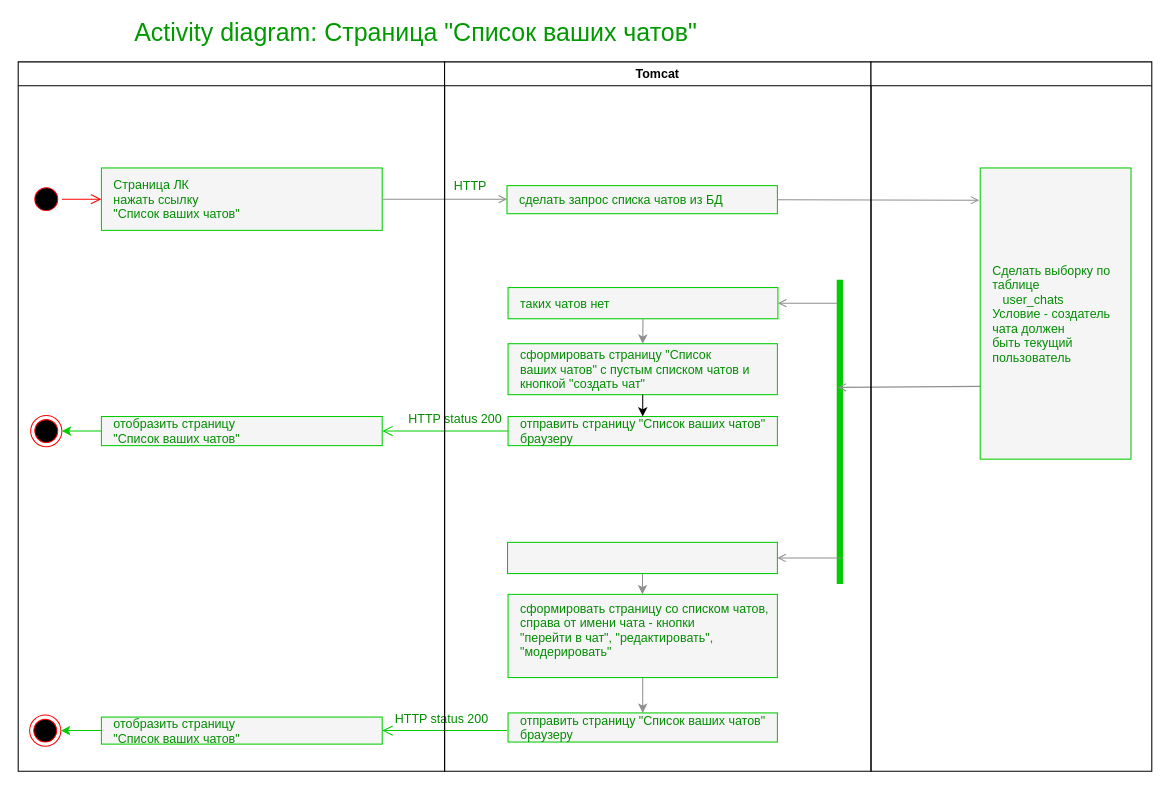
Image size: 1170x789. Some labels were removed from this diagram. The shapes that lost their labels are listed below. From the top down, each one's centre as x and y in pixels, then its label:
At point 231,416: "Браузер".
At point 1011,416: "PostgreSQL".
At point 641,557: "есть список таких чатов".
